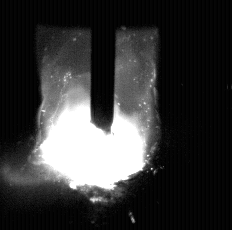arame: (92, 0, 116, 135)
poca: (37, 0, 155, 230)
